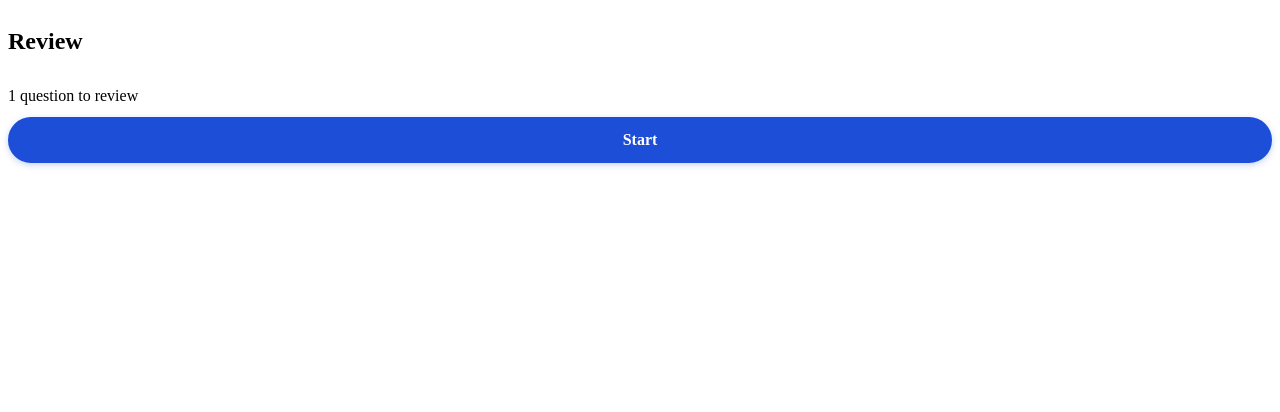
ReviewQueueNodeView › allows one Try per Item: radios are disabled after Check and the feedback shows the result
Click the button "Start" at (640, 140), box [8,117,1272,163]
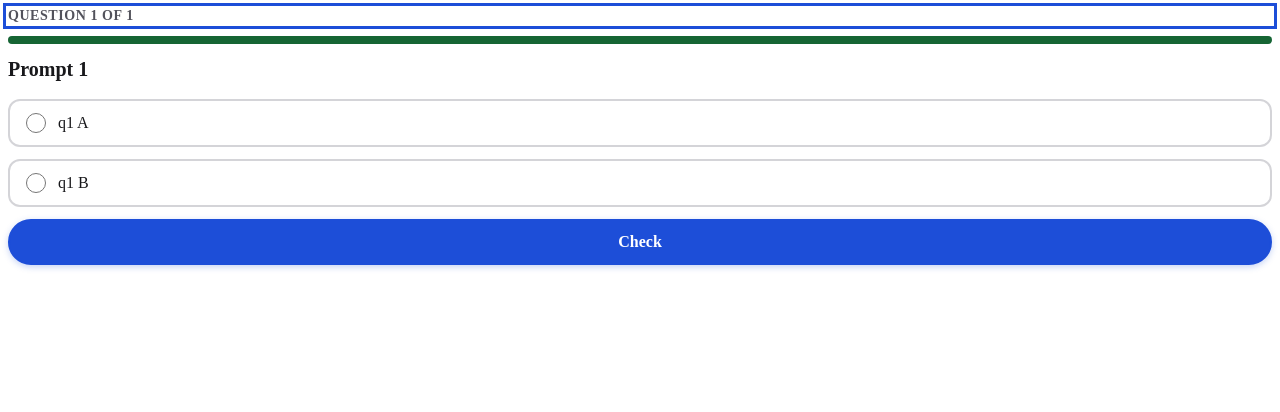
Click the radio button labelled "q1 B" at (36, 183), box [26,173,46,193]
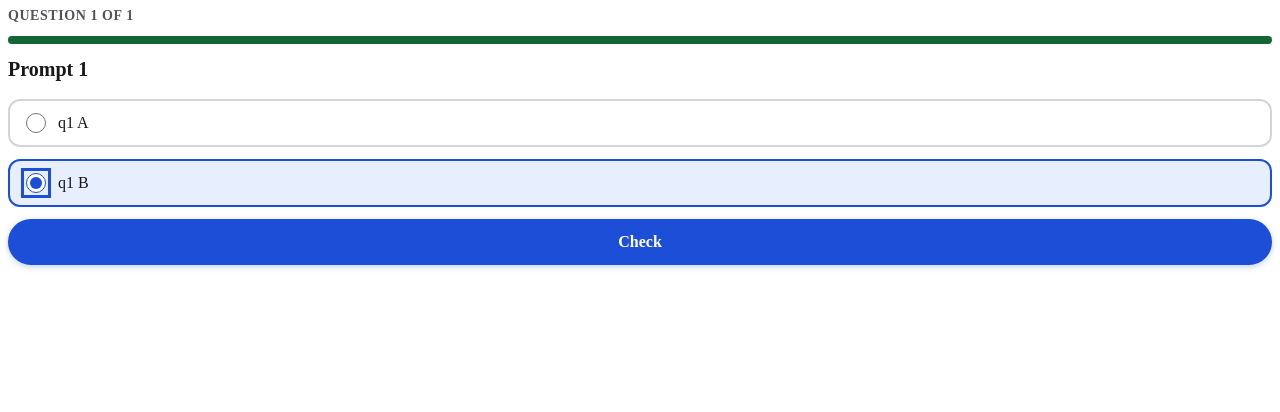
Click the button "Check" at (640, 242), box [8,219,1272,265]
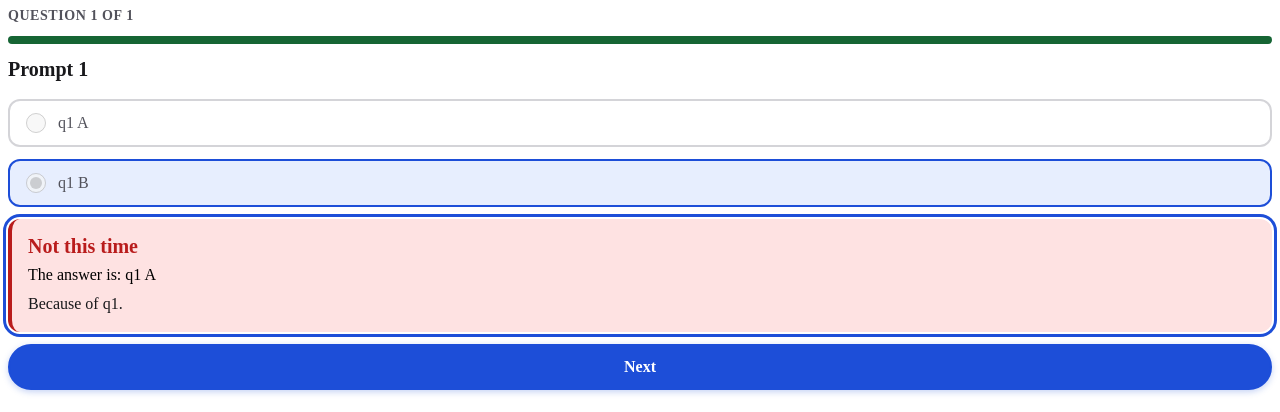
Result: the button "Check" is gone
Result: the element showing "Not this time The answer is: q1 A Because of q1." is shown at [8,219,1272,332]
